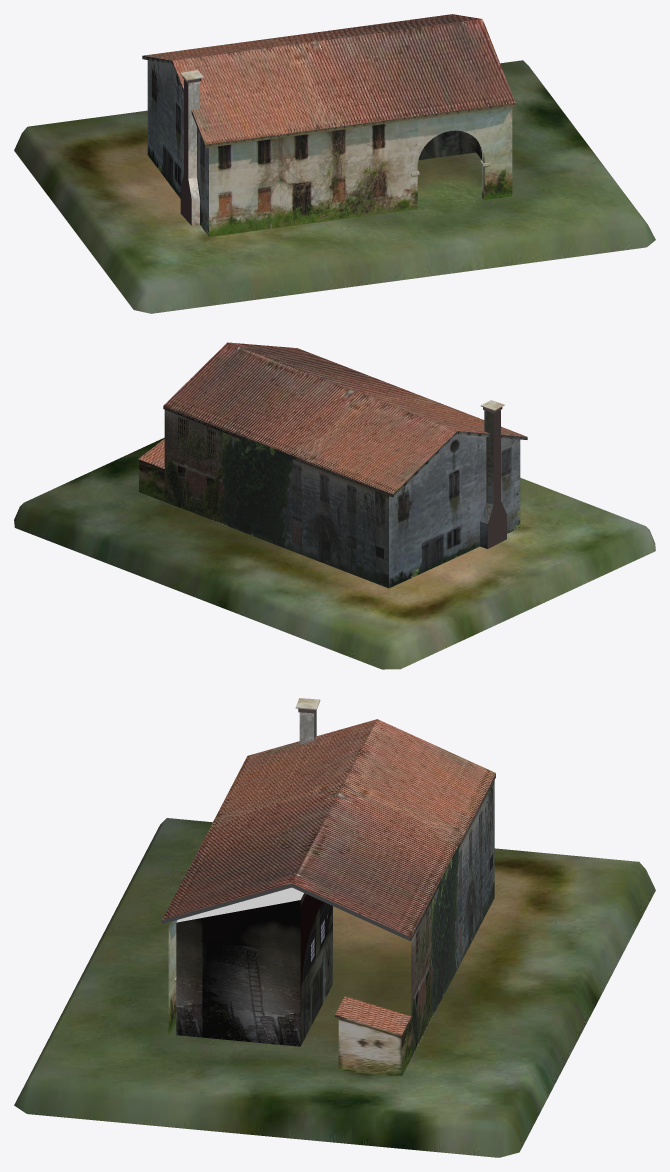
The model's file is farm_house.fbx.
3 views of the same model, one above another, from view 1: azimuth 30°, elevation 25°; view 2: azimuth 150°, elevation 25°; view 3: azimuth 270°, elevation 25° (orthographic). The views are drawn at different scales.
Parts seen in each view (by area): view 1: Group3, Group4, Group1; view 2: Group4, Group3, Group1; view 3: Group3, Group4.
Boxes of the visible parts, x1,y1,x2,y2 form: Group3: [14, 60, 655, 313]; Group4: [142, 14, 515, 236]; Group1: [180, 79, 199, 225]; Group4: [138, 342, 527, 588]; Group3: [14, 437, 655, 669]; Group1: [480, 410, 506, 548]; Group3: [14, 818, 655, 1157]; Group4: [162, 719, 495, 1076].
Size of the model in its own units: 33.72 by 9.96 by 28.58.
31 materials, 27 textured.
